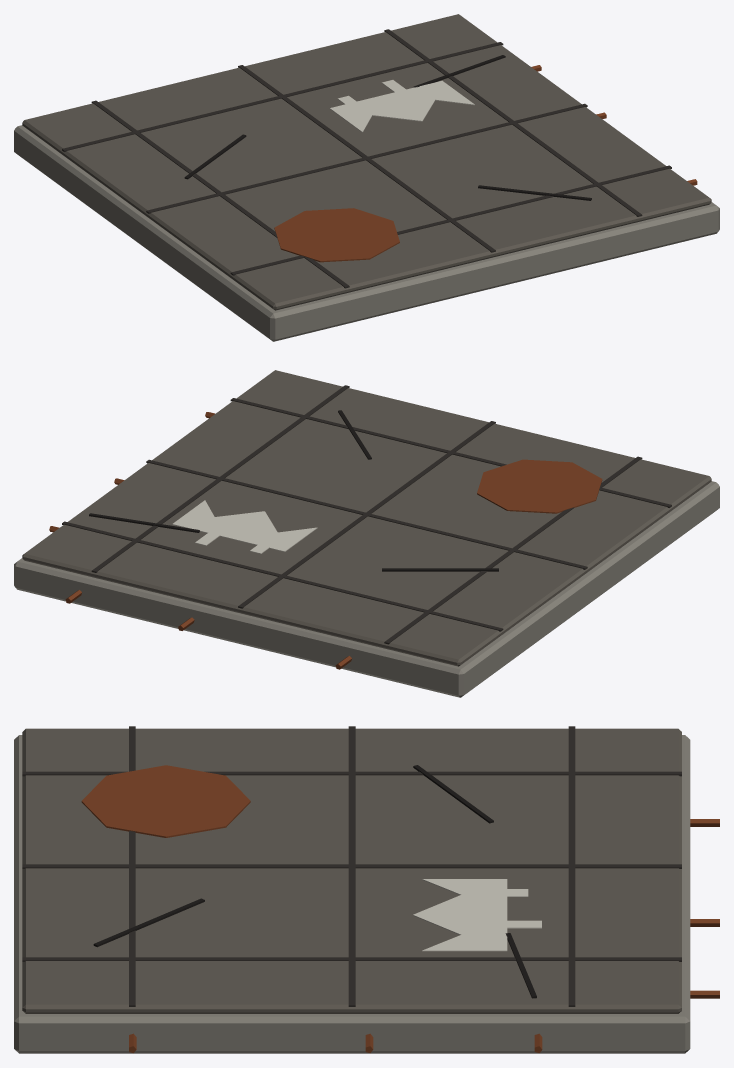
The model's file is b_floor_chunks.glb.
The picture shows the model from 3 angles, top to bottom: view 1: azimuth 30°, elevation 25°; view 2: azimuth 150°, elevation 25°; view 3: azimuth 270°, elevation 25°; orthographic projection. The views are drawn at different scales.
Parts seen in each view (by area): view 1: chunk_0, chunk_2, chunk_4, chunk_1, chunk_3, chunk_5; view 2: chunk_1, chunk_0, chunk_3, chunk_2, chunk_5, chunk_4; view 3: chunk_4, chunk_5, chunk_2, chunk_0, chunk_3, chunk_1.
Boxes of the visible parts, <box> form: chunk_0: <box>129,166,429,341</box>; chunk_2: <box>287,127,586,303</box>; chunk_4: <box>444,96,719,265</box>; chunk_1: <box>14,83,285,236</box>; chunk_3: <box>174,45,443,165</box>; chunk_5: <box>332,14,570,127</box>; chunk_1: <box>304,541,578,697</box>; chunk_0: <box>422,439,719,611</box>; chunk_3: <box>147,502,420,659</box>; chunk_2: <box>264,401,559,540</box>; chunk_5: <box>14,471,263,621</box>; chunk_4: <box>114,370,401,502</box>; chunk_4: <box>14,922,385,1053</box>; chunk_5: <box>386,922,719,1053</box>; chunk_2: <box>14,822,385,937</box>; chunk_0: <box>14,726,385,837</box>; chunk_3: <box>386,823,719,937</box>; chunk_1: <box>386,726,719,836</box>.
Bounding box in the file's own units: 4.17 × 0.313 × 4.17.
